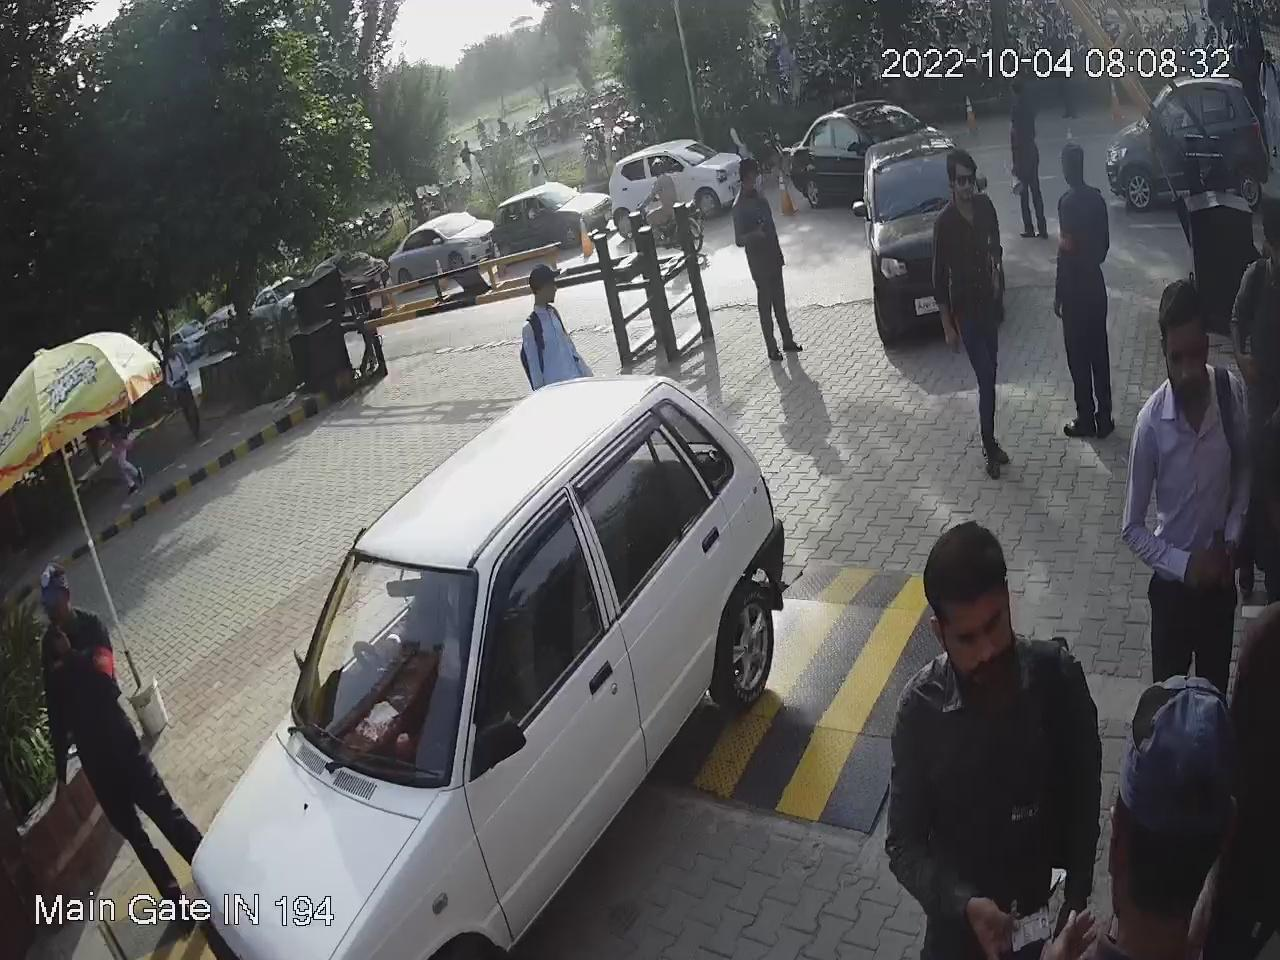windshield: (278, 535, 486, 793)
